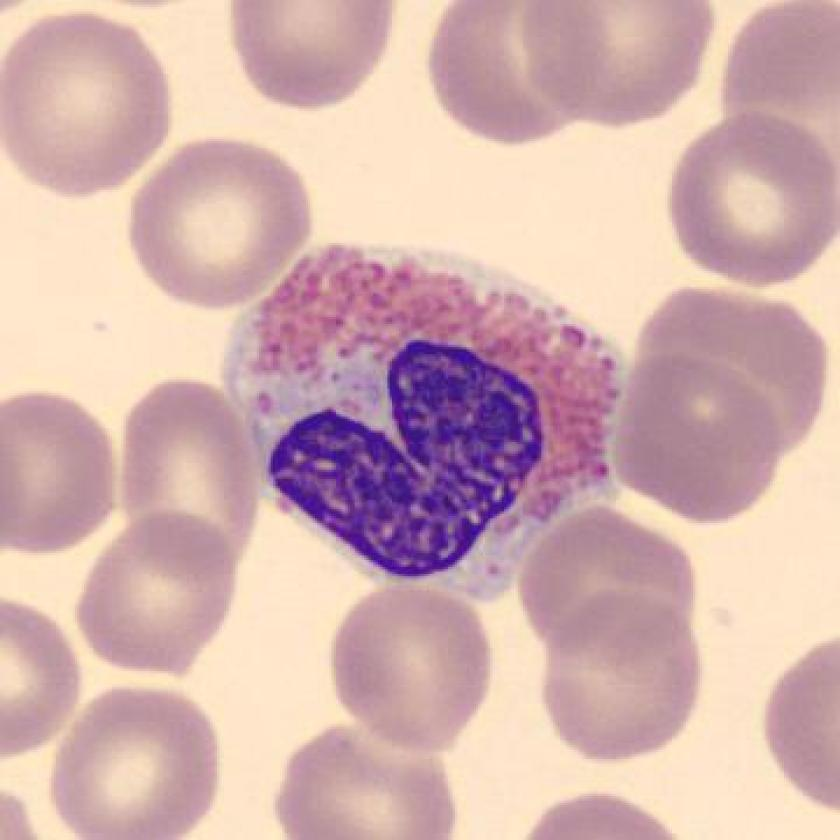eosinophil: (209, 221, 645, 616)
